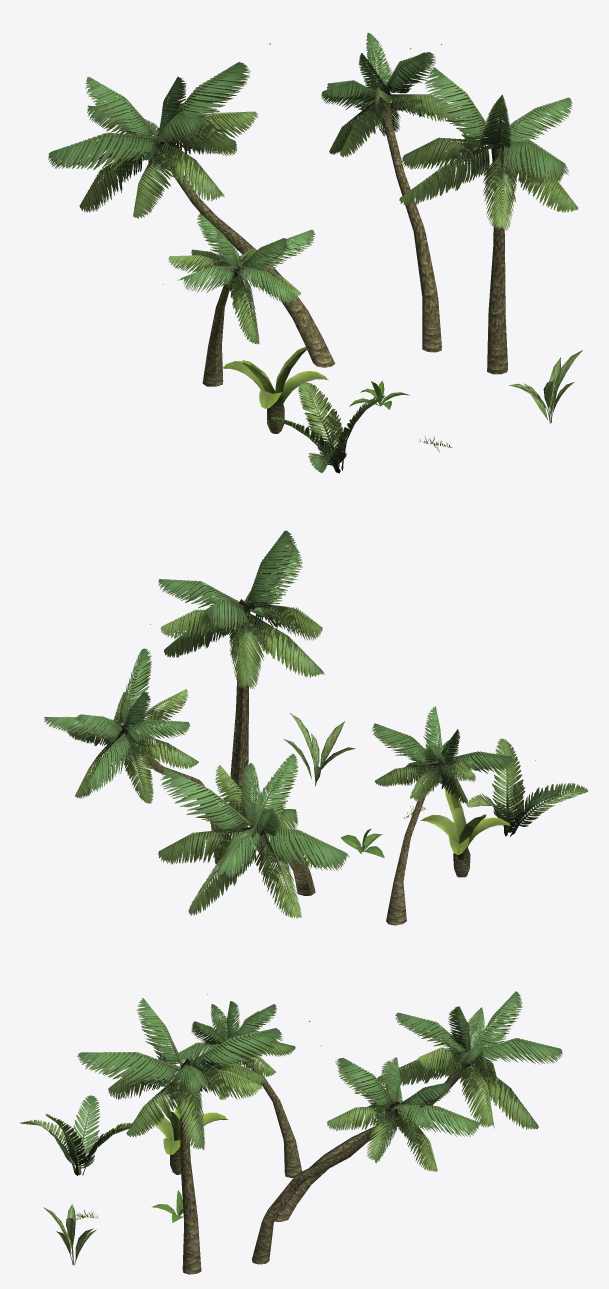
The model's file is vegetation.fbx.
The picture shows the model from 3 angles, top to bottom: view 1: azimuth 30°, elevation 25°; view 2: azimuth 150°, elevation 25°; view 3: azimuth 270°, elevation 25°; orthographic projection. The views are drawn at different scales.
Visible parts, largest first — view 1: yeshu4_a, yeshu1_a, yeshu3_a, yeshu2_a, yeshu3, big_leaves_alpha, yeshu1, yeshu4, big_leaves, yeshu2, small_leaves2; view 2: yeshu4_a, yeshu1_a, yeshu3_a, yeshu2_a, big_leaves_alpha, big_leaves, yeshu1, yeshu2, small_leaves2, yeshu4, yeshu3; view 3: yeshu1_a, yeshu4_a, yeshu3_a, yeshu2_a, big_leaves_alpha, yeshu3, yeshu1, yeshu4, big_leaves, yeshu2, small_leaves2.
Part boxes in pixels (box(x1,y1,x2,y2)): yeshu4_a: box(48, 43, 270, 218); yeshu1_a: box(399, 48, 578, 230); yeshu3_a: box(321, 32, 462, 157); yeshu2_a: box(163, 213, 315, 344); yeshu3: box(379, 88, 441, 352); big_leaves_alpha: box(271, 382, 384, 473); yeshu1: box(487, 131, 507, 374); yeshu4: box(155, 139, 335, 367); big_leaves: box(221, 347, 328, 433); yeshu2: box(202, 265, 239, 386); small_leaves2: box(509, 350, 582, 423); yeshu4_a: box(133, 753, 349, 918); yeshu1_a: box(158, 530, 324, 688); yeshu3_a: box(44, 624, 198, 803); yeshu2_a: box(371, 706, 535, 804); big_leaves_alpha: box(467, 738, 587, 836); big_leaves: box(420, 787, 510, 877); yeshu1: box(229, 599, 250, 832); yeshu2: box(386, 761, 443, 925); small_leaves2: box(284, 713, 355, 785); yeshu4: box(253, 830, 315, 895); yeshu3: box(118, 725, 229, 865); yeshu1_a: box(77, 998, 310, 1149); yeshu4_a: box(377, 991, 562, 1129); yeshu3_a: box(321, 1045, 479, 1171); yeshu2_a: box(172, 994, 295, 1099); big_leaves_alpha: box(20, 1095, 132, 1175); yeshu3: box(252, 1101, 399, 1264); yeshu1: box(180, 1058, 201, 1274); yeshu4: box(274, 1058, 470, 1221); big_leaves: box(151, 1103, 228, 1174); yeshu2: box(245, 1057, 301, 1178); small_leaves2: box(43, 1204, 96, 1265).
Bounding box in the file's own units: 48.4 × 34.48 × 64.37.
Materials: 2 (2 with a texture image).
